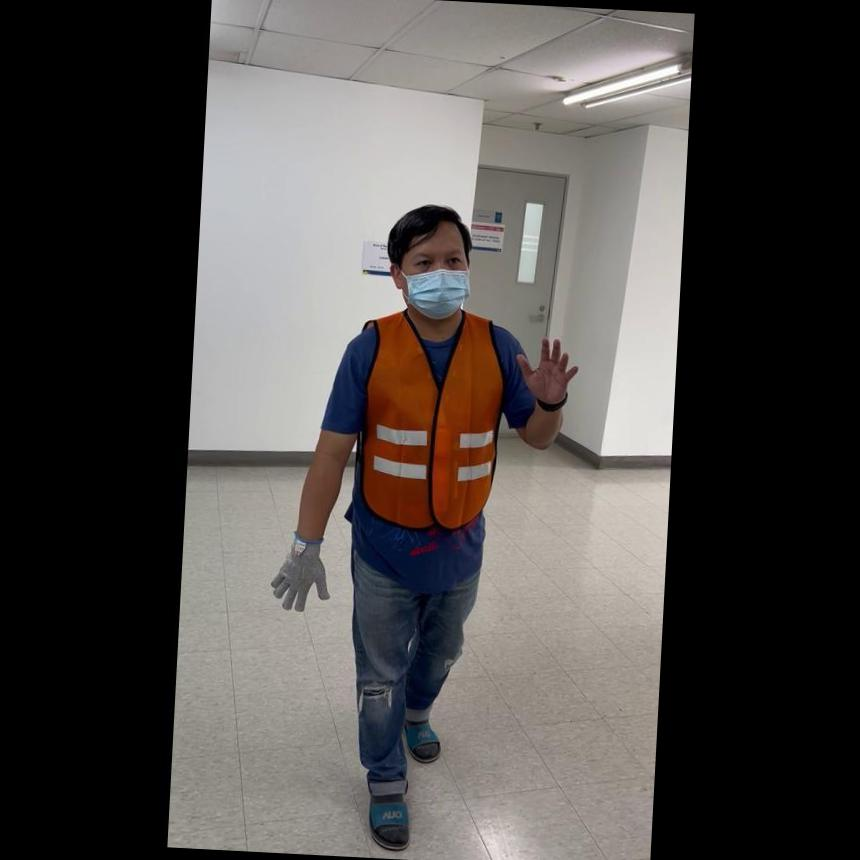Gloves: (265, 529, 332, 612)
No-gloves: (514, 328, 578, 406)
